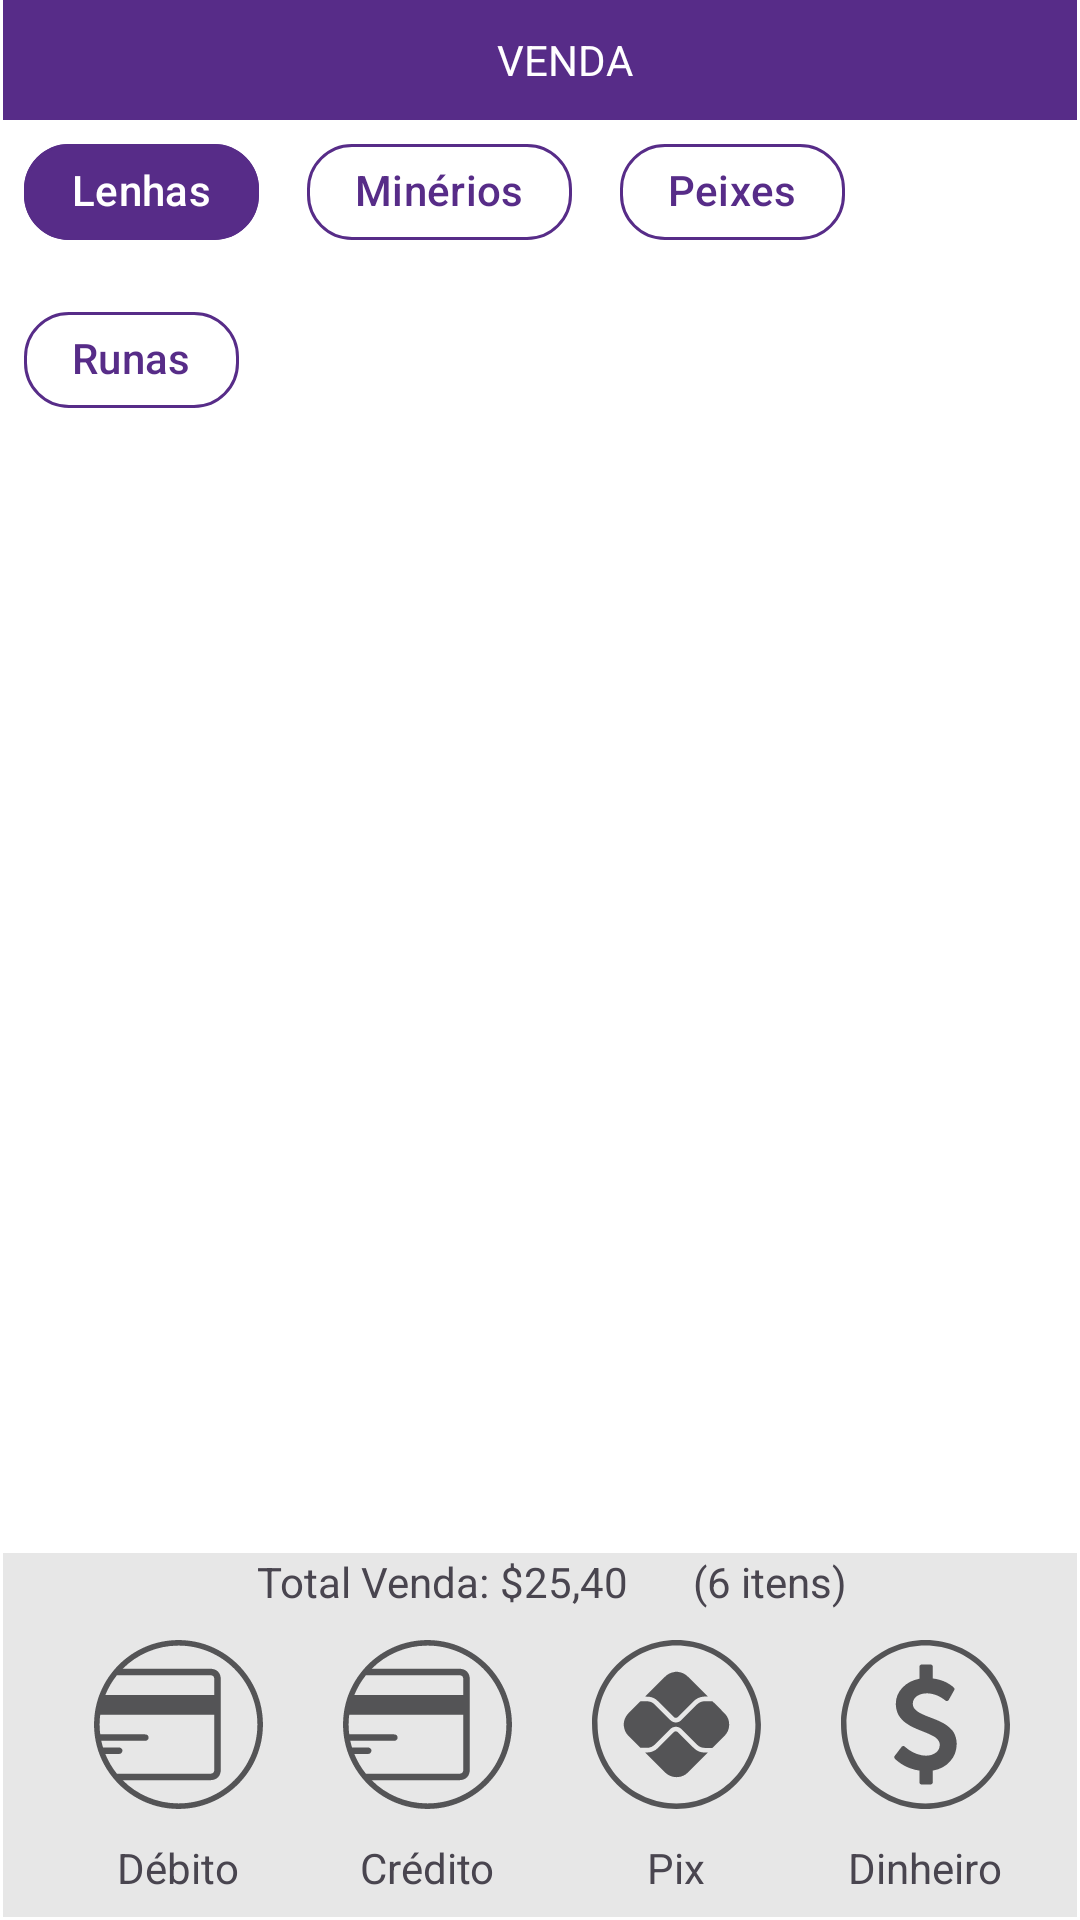

Where to tap for icons on this 1080x1920 app screen, as point (x, y):
cartao: point (178, 1724), point (427, 1724)
